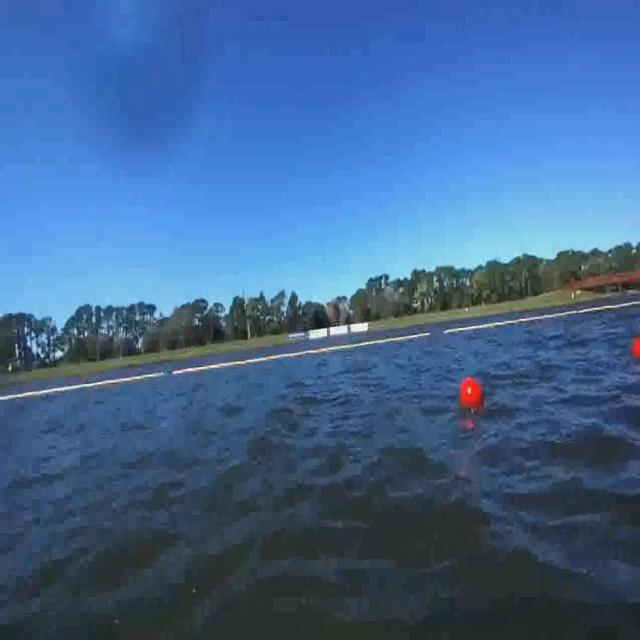red-buoy: (462, 376, 485, 407), (632, 338, 640, 361)
